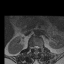CCS_normal: (35, 43, 37, 52)
LFS_normal: (39, 43, 40, 50)
LLS_normal: (37, 43, 39, 51)
RFS_normal: (31, 44, 33, 50)
RLS_normal: (33, 44, 35, 51)
